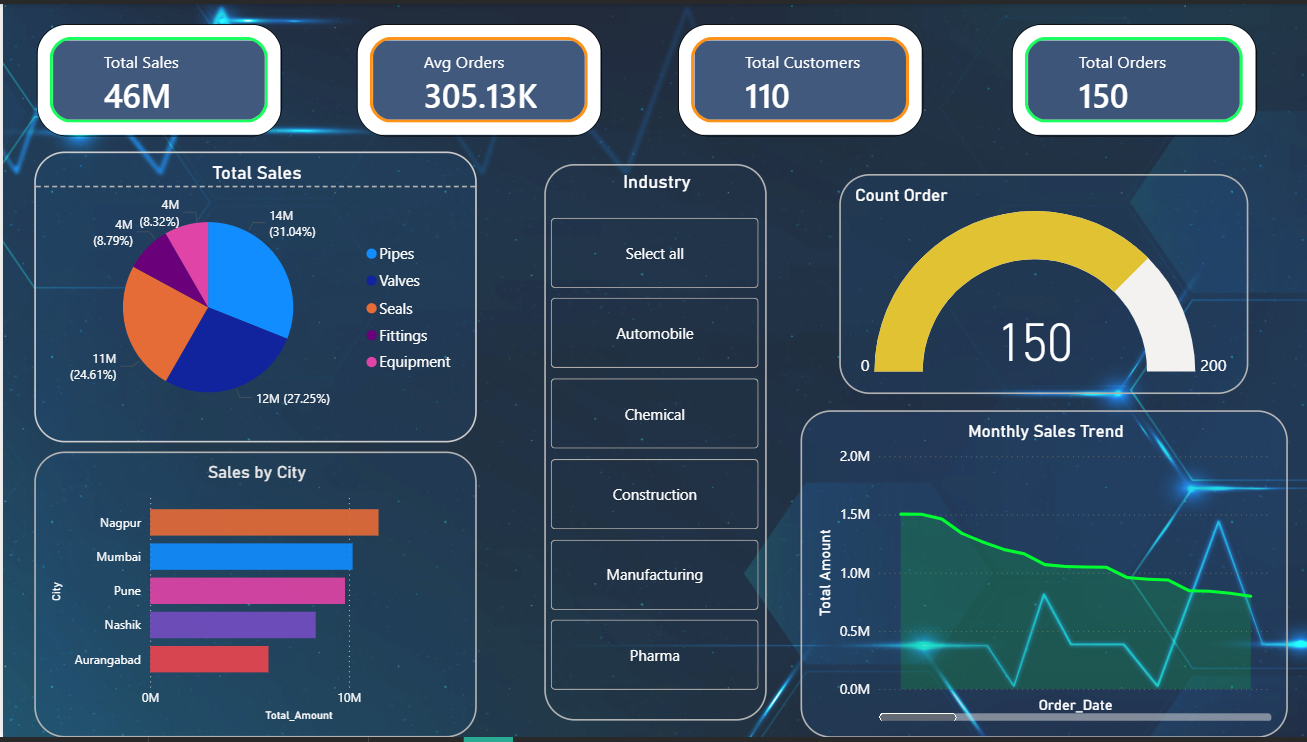

The dashboard page shown, as its layout file describes it:
{"tool":"powerbi","page":{"name":"Sales Tracking Dashboard","canvas":[1280,720],"ordinal":0},"visuals":[{"type":"cardVisual","fields":{"Data":["Orders.Total Sales"]},"box":[33.1,19.6,240.5,110.4],"z":0},{"type":"cardVisual","fields":{"Data":["Orders.Total Orders"]},"box":[990.2,19.6,240.5,110.4],"z":1000},{"type":"cardVisual","fields":{"Data":["Orders.Total Customers"]},"box":[662.6,19.6,240.5,110.4],"z":2000},{"type":"clusteredBarChart","title":"Sales by City","fields":{"Category":["Products.City"],"Y":["Sum(Orders.Total_Amount)"]},"box":[30.7,439.3,434.4,281],"z":3000},{"type":"pieChart","title":"Total Sales","fields":{"Y":["Orders.Total Sales"],"Category":["Products.Category"]},"box":[30.7,144.8,434.4,285.9],"z":4000},{"type":"gauge","title":"Count  Order","fields":{"Y":["CountNonNull(Orders.Status)"]},"box":[820.9,166.9,401.2,216],"z":5000},{"type":"lineChart","title":"Monthly Sales Trend","fields":{"Y":["Sum(Orders.Total_Amount)"],"Category":["Orders.Order_Date"]},"box":[782.8,398.8,478.5,321.5],"z":6000},{"type":"cardVisual","fields":{"Data":["Orders.Average Order Value"]},"box":[347.2,19.6,240.5,110.4],"z":7000},{"type":"advancedSlicerVisual","fields":{"Values":["Customers.Industry"]},"box":[531.3,157.1,218.4,546],"z":8000}]}

Visuals, with their boxes in screenshot pixels (x1, y1, x2, y2), scaled from the page's 1280x720 canvas onto the 1307x742 screenshot:
cardVisual - Orders.Total Sales: bbox(34, 20, 279, 134)
cardVisual - Orders.Total Orders: bbox(1011, 20, 1257, 134)
cardVisual - Orders.Total Customers: bbox(677, 20, 922, 134)
"Sales by City" clusteredBarChart: bbox(31, 453, 475, 741)
"Total Sales" pieChart: bbox(31, 149, 475, 444)
"Count  Order" gauge: bbox(838, 172, 1248, 395)
"Monthly Sales Trend" lineChart: bbox(799, 411, 1288, 741)
cardVisual - Orders.Average Order Value: bbox(355, 20, 600, 134)
advancedSlicerVisual - Customers.Industry: bbox(543, 162, 766, 725)
